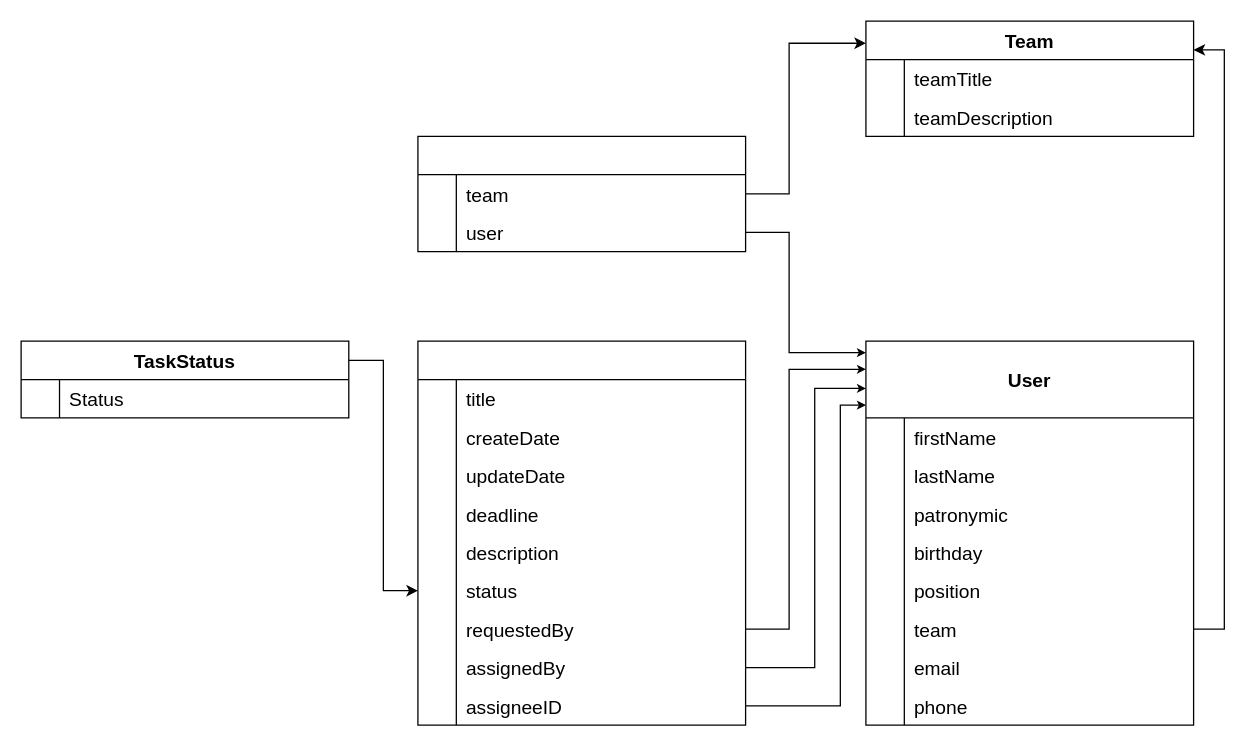
Some shapes in this 1245 by 746 pixel diagram are drawn without their labels. Here are the shapes that lost their labels. From the top down, the box of each, then its label:
(417, 135, 746, 252): TeamMember
(417, 340, 746, 725): Task
